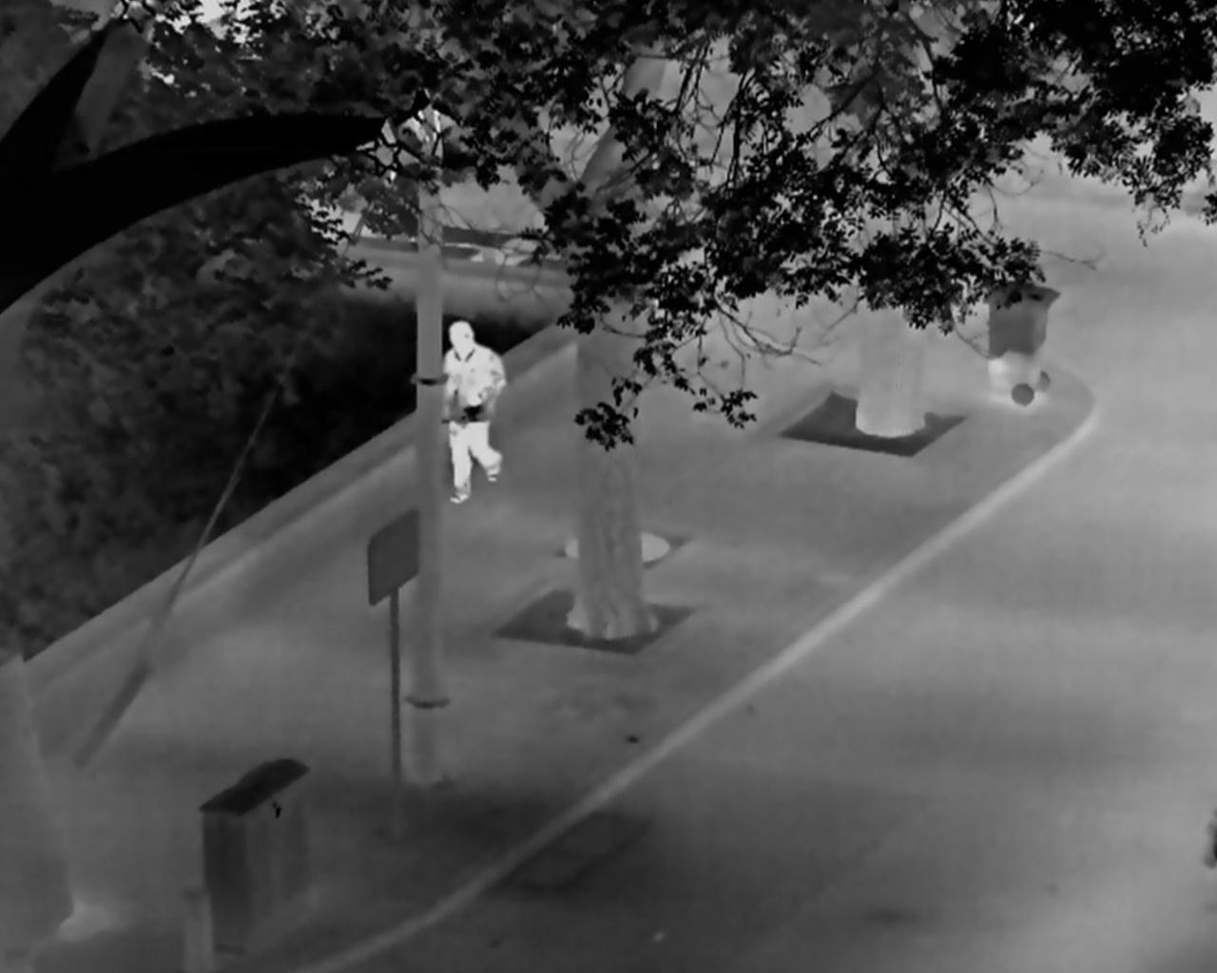person: (439, 318, 511, 506)
